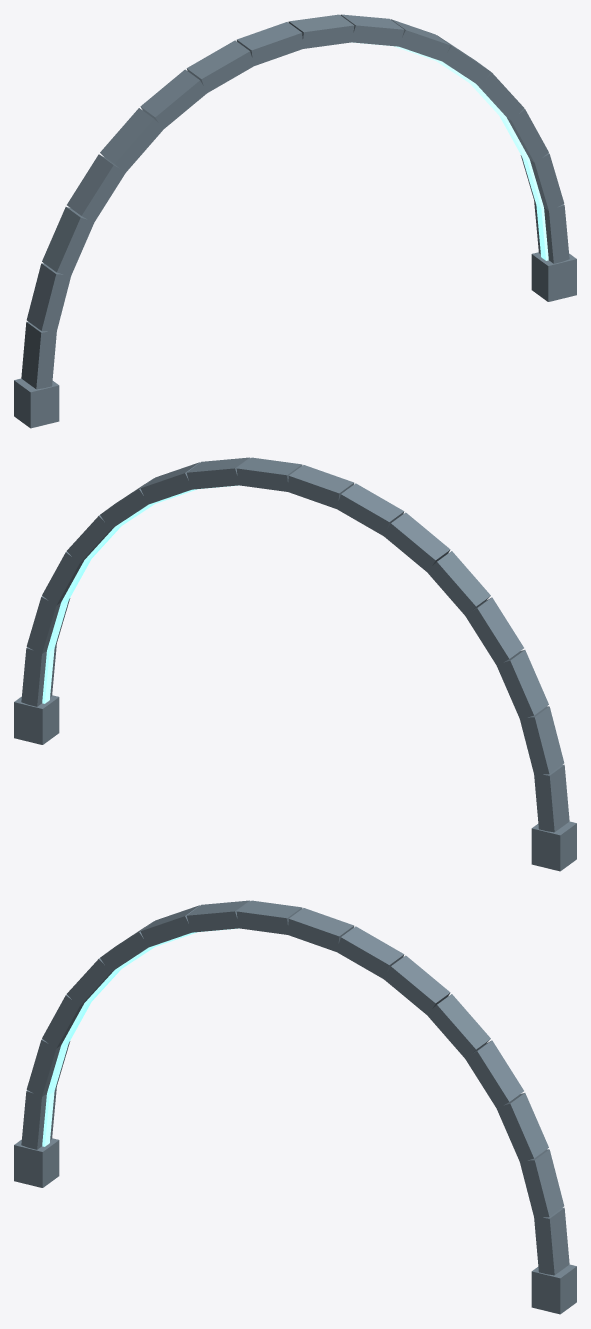
The model's file is tunnel_ring.glb.
The picture shows the model from 3 angles, top to bottom: view 1: azimuth 30°, elevation 25°; view 2: azimuth 150°, elevation 25°; view 3: azimuth 330°, elevation 25°; orthographic projection.
Parts seen in each view (by area): view 1: LOD0; view 2: LOD0; view 3: LOD0.
Boxes of the visible parts, x1=… form: LOD0: x1=14, y1=14, x2=576, y2=428; LOD0: x1=14, y1=457, x2=576, y2=871; LOD0: x1=14, y1=900, x2=576, y2=1314.
Size of what is drawn, in the model's own units: 19 by 10.92 by 1.
